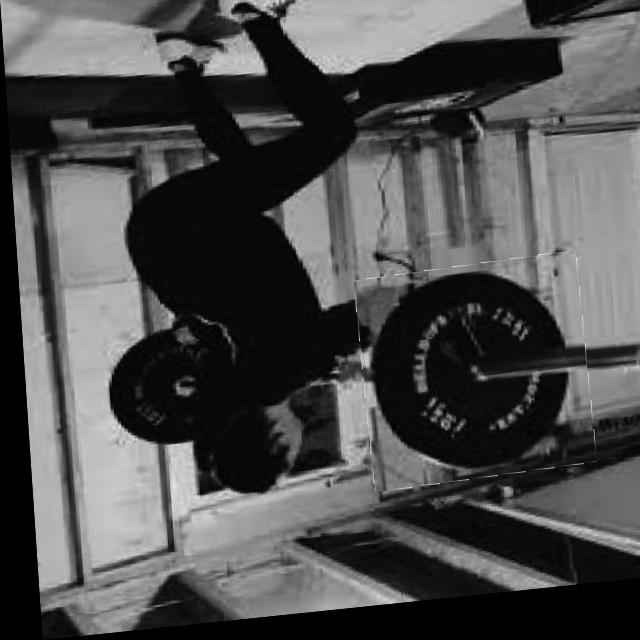barbell: (352, 264, 588, 499)
